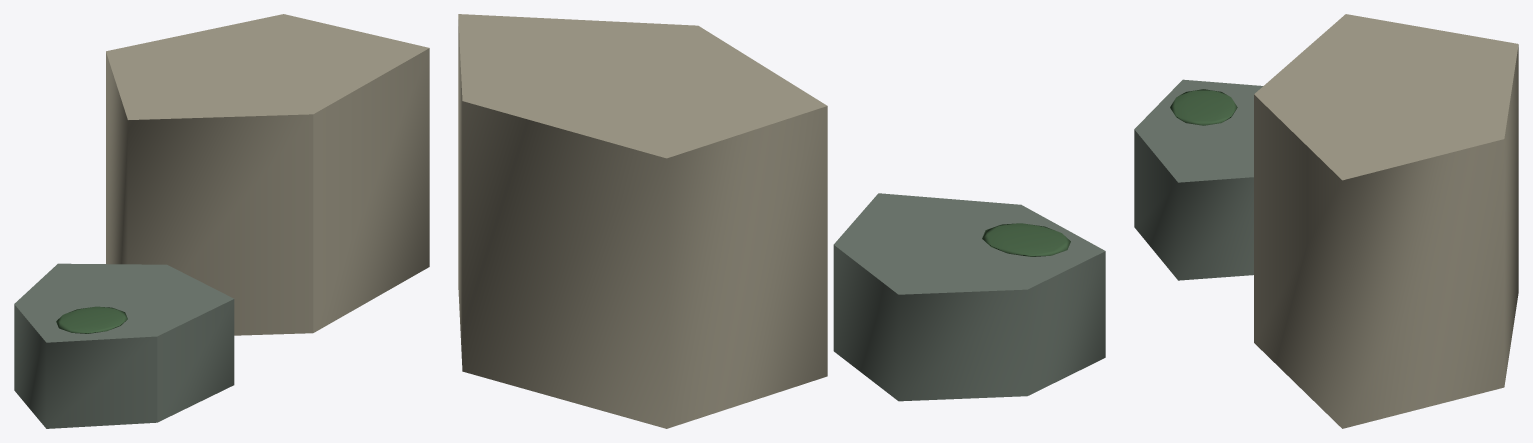
3 views of the same model, side by side, from view 1: azimuth 30°, elevation 25°; view 2: azimuth 150°, elevation 25°; view 3: azimuth 270°, elevation 25° (orthographic). The views are drawn at different scales.
Parts seen in each view (by area): view 1: climb-rocks-4-0, climb-rocks-4-1, 바위 05; view 2: climb-rocks-4-0, climb-rocks-4-1, 바위 05; view 3: climb-rocks-4-0, climb-rocks-4-1, 바위 05.
Part boxes in pixels (<box>): climb-rocks-4-0: <box>106,14,429,335</box>; climb-rocks-4-1: <box>14,263,234,428</box>; 바위 05: <box>56,306,127,333</box>; climb-rocks-4-0: <box>458,14,827,428</box>; climb-rocks-4-1: <box>833,193,1105,401</box>; 바위 05: <box>982,223,1070,256</box>; climb-rocks-4-0: <box>1254,14,1518,428</box>; climb-rocks-4-1: <box>1134,79,1262,280</box>; 바위 05: <box>1170,89,1237,125</box>.
Size of the model in its own units: 3.15 by 1.45 by 2.04.
